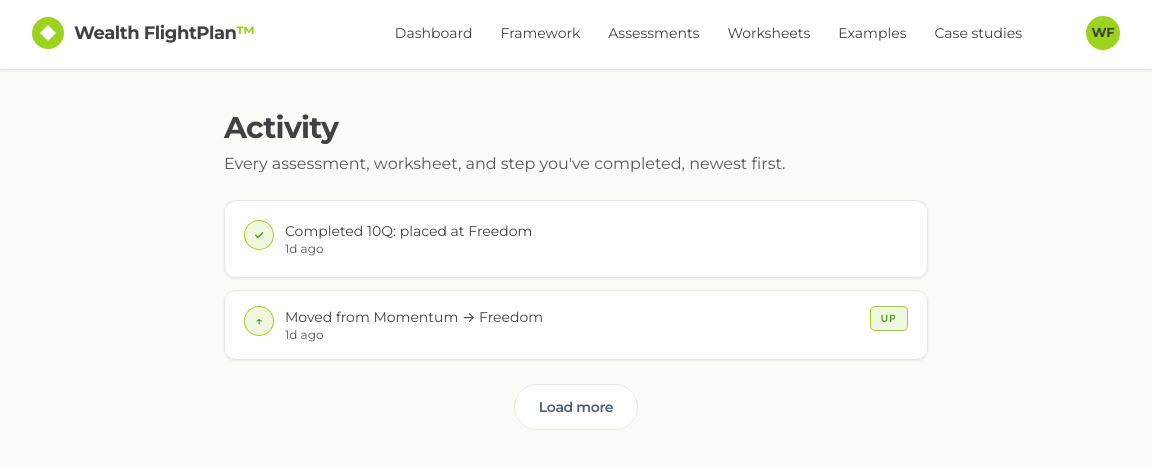
Test: ActivityPage › round-trips cursor pagination via Load more
This screenshot has width=1152, height=468.
Expected: the text "Completed 10Q: placed at Freedom" is shown, [285, 222, 532, 240]
Expected: the text with test id "stage-direction" reads "Up", [881, 312, 897, 324]
Click the button "Load more".
click(576, 407)  # box [514, 384, 638, 430]
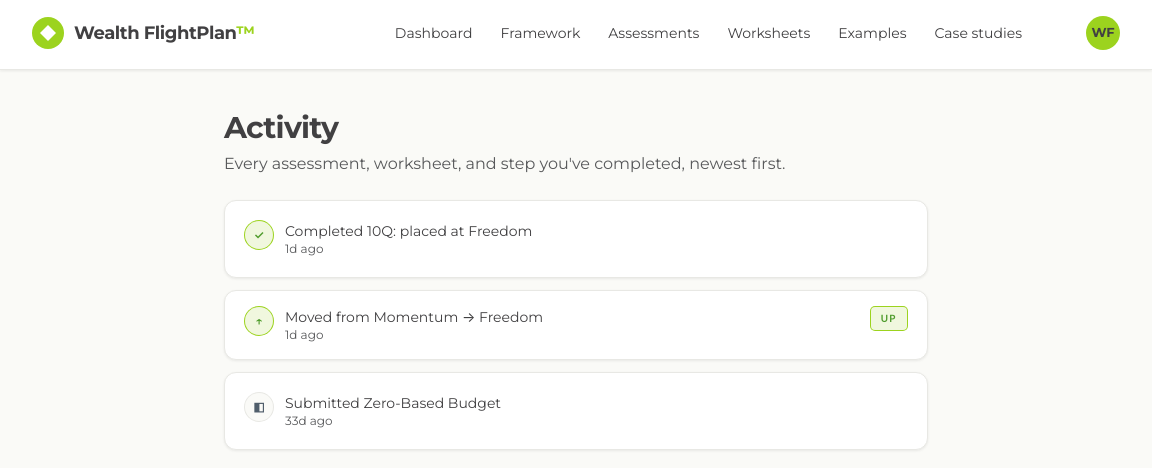
Expected: the text "Submitted Zero-Based Budget" is shown, [285, 394, 501, 412]
Expected: the button "Load more" is gone
